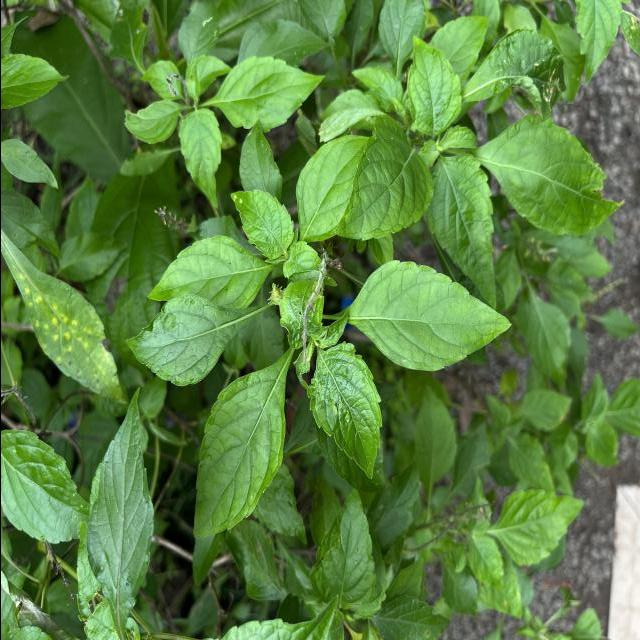Ocimum gratissimum: (455, 112, 628, 240), (187, 343, 295, 544), (333, 258, 513, 374), (82, 380, 160, 639), (121, 290, 272, 390), (332, 110, 434, 242), (424, 148, 498, 314), (302, 338, 385, 482), (0, 426, 92, 546)
